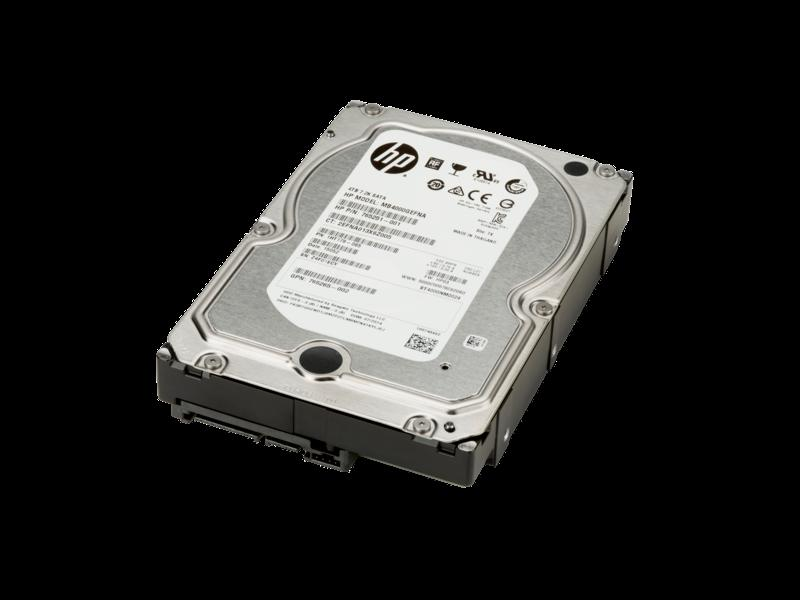internal HDD: (154, 100, 635, 494)
